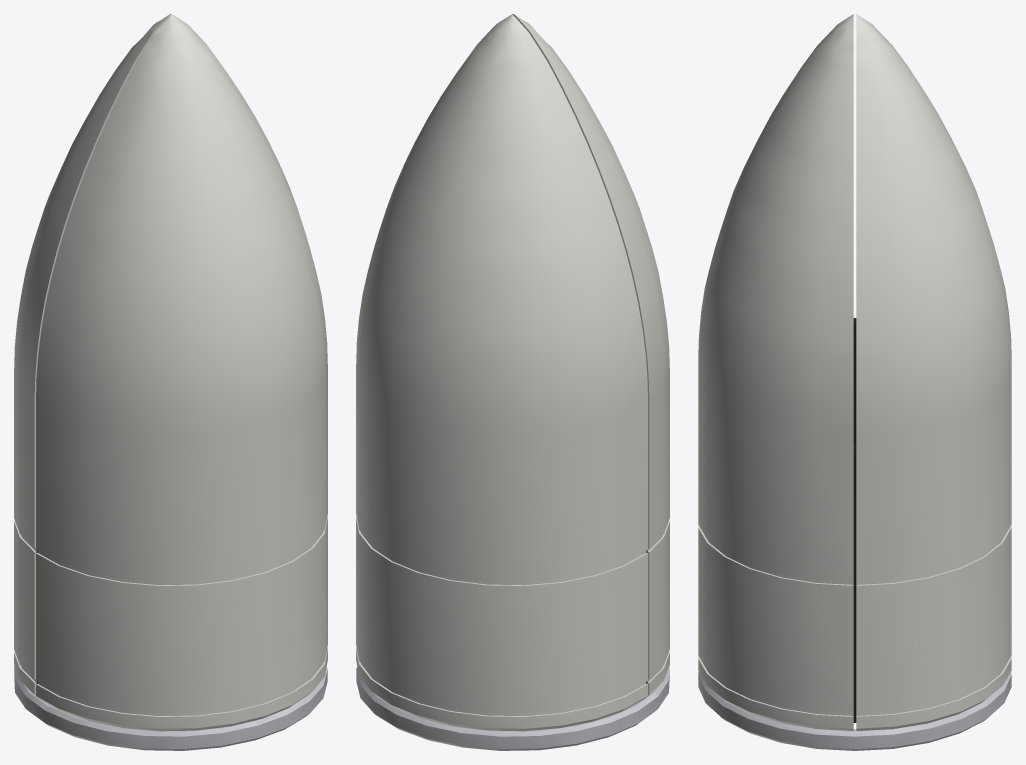
Rendered from ax_struct_09_payload_fairing_s.glb.
3 views of the same model, side by side, from view 1: azimuth 30°, elevation 25°; view 2: azimuth 150°, elevation 25°; view 3: azimuth 270°, elevation 25° (orthographic).
Visible parts, largest first — view 1: half_b, half_a, base_ring; view 2: half_a, half_b, base_ring; view 3: half_a, half_b, base_ring, separation_rails.
Part boxes in pixels (x1,y1,x2,y2): half_b: (36,15,327,731); half_a: (14,14,181,695); base_ring: (14,666,327,750); half_a: (356,15,647,731); half_b: (502,14,669,695); base_ring: (356,666,669,750); half_a: (856,14,1011,730); half_b: (698,14,853,730); base_ring: (698,672,1011,750); separation_rails: (853,318,856,722).
Bounding box in the file's own units: 1.25 × 2.96 × 1.25.
3 materials, 1 textured.
